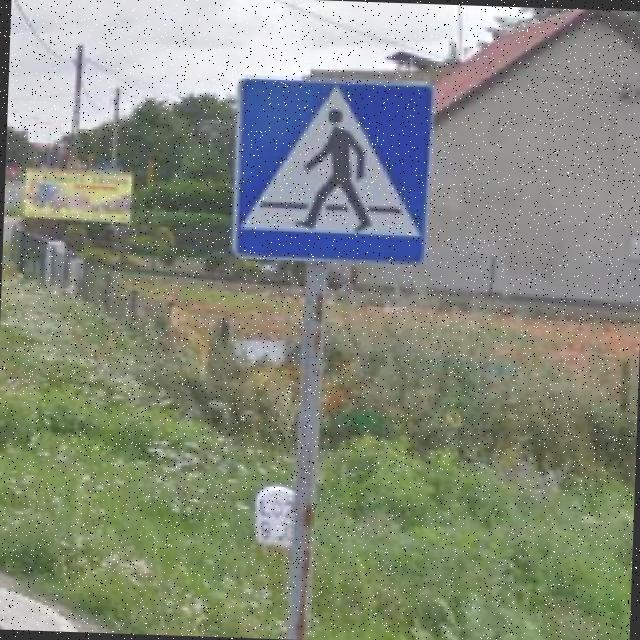Przejscie dla pieszych: (229, 74, 434, 264)
